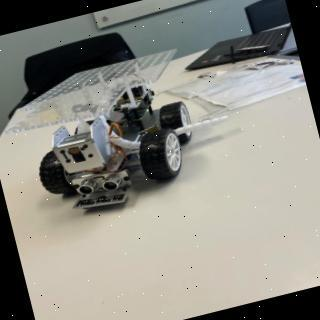vehicle: (1, 45, 218, 232)
